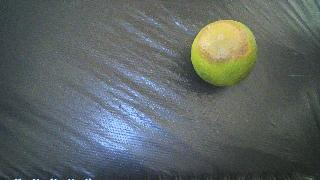DESECHO: (191, 20, 257, 86)
